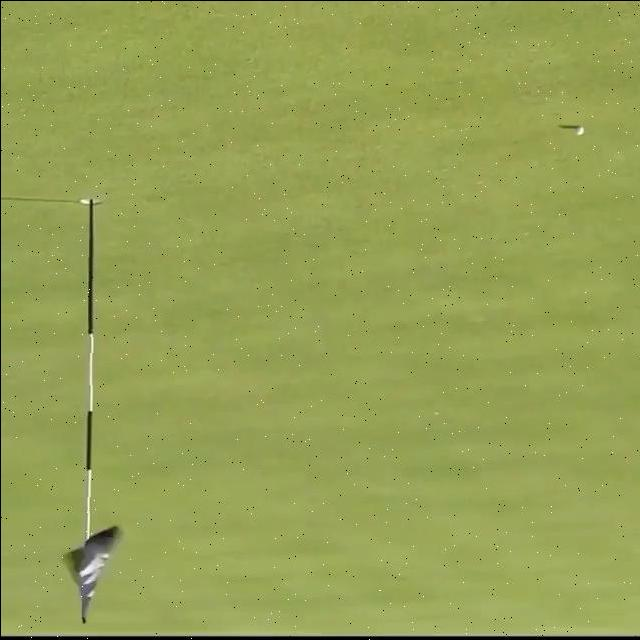golf ball: (572, 123, 589, 137)
